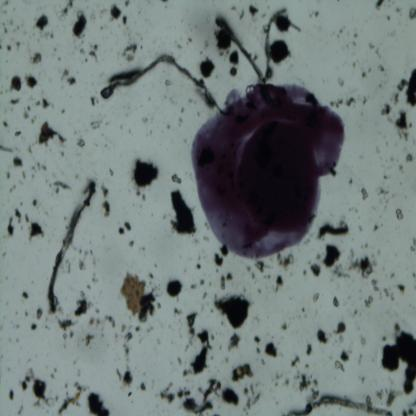Background material: (380, 323, 416, 399), (176, 378, 222, 414), (123, 272, 156, 322), (212, 294, 250, 329), (132, 160, 160, 201), (57, 381, 86, 415), (192, 328, 210, 375), (268, 36, 291, 70), (316, 218, 349, 240), (39, 121, 66, 146), (348, 254, 373, 279), (242, 384, 262, 412), (275, 7, 298, 31), (87, 391, 110, 415), (395, 112, 411, 142), (391, 76, 407, 106), (323, 243, 341, 269), (72, 10, 87, 41), (294, 373, 318, 392), (88, 314, 116, 330), (231, 363, 254, 382), (115, 365, 134, 388), (222, 383, 239, 408), (121, 325, 132, 362), (32, 379, 46, 407), (215, 29, 232, 52), (160, 380, 176, 404), (74, 290, 88, 317), (166, 276, 183, 298), (407, 69, 416, 109), (306, 6, 324, 26), (275, 252, 295, 270), (199, 57, 215, 79), (54, 315, 77, 330), (213, 244, 228, 267), (54, 1, 73, 19), (186, 313, 196, 347), (284, 404, 312, 416), (224, 332, 242, 350), (60, 68, 76, 88), (20, 370, 35, 391), (107, 2, 123, 20), (218, 273, 234, 291), (122, 43, 138, 61), (30, 221, 45, 240), (334, 263, 350, 280), (52, 180, 71, 194), (253, 258, 267, 276), (35, 15, 50, 31), (30, 162, 48, 175), (387, 387, 398, 408), (381, 286, 396, 301), (25, 73, 39, 89), (316, 328, 329, 345), (272, 274, 284, 292), (118, 221, 133, 235), (89, 42, 99, 63), (264, 342, 277, 358), (329, 96, 345, 109), (358, 91, 369, 109), (310, 261, 321, 279), (229, 48, 240, 66), (101, 200, 112, 218), (84, 332, 96, 348), (7, 215, 16, 236), (231, 7, 245, 20), (380, 103, 392, 118), (12, 154, 24, 168), (29, 52, 43, 64), (39, 29, 54, 40), (360, 186, 370, 202), (376, 186, 389, 198), (47, 395, 59, 408), (396, 282, 407, 296), (333, 359, 344, 373), (290, 354, 301, 368), (407, 4, 416, 21), (170, 173, 182, 185), (14, 208, 23, 224), (22, 104, 32, 118), (174, 110, 184, 124), (364, 295, 374, 309), (311, 290, 320, 305), (339, 351, 350, 363), (346, 97, 358, 108), (400, 408, 416, 416), (0, 145, 14, 154), (395, 208, 404, 222), (249, 4, 258, 18), (89, 95, 100, 106), (404, 152, 414, 164), (375, 387, 385, 399), (78, 258, 86, 272), (374, 1, 384, 12), (90, 119, 100, 130), (409, 238, 416, 253), (35, 307, 43, 320), (305, 343, 313, 356), (77, 137, 86, 148), (182, 368, 193, 377), (372, 278, 379, 292), (10, 98, 22, 106), (62, 332, 74, 340), (42, 98, 50, 110), (332, 296, 340, 308), (102, 184, 109, 197), (356, 222, 364, 233), (7, 389, 14, 401), (134, 324, 142, 334), (173, 307, 183, 315), (372, 222, 380, 232), (336, 76, 344, 86), (2, 22, 8, 35), (280, 320, 287, 331), (14, 41, 21, 52), (8, 184, 17, 192), (253, 335, 261, 344), (18, 402, 24, 414), (21, 169, 27, 181), (15, 128, 22, 138), (195, 260, 202, 270), (22, 290, 29, 300), (360, 336, 366, 347), (24, 212, 30, 223), (379, 63, 385, 74), (27, 144, 33, 155), (190, 281, 198, 289), (140, 381, 146, 391), (199, 276, 205, 286), (3, 120, 10, 128), (34, 99, 41, 107), (30, 323, 38, 330), (108, 168, 114, 177), (6, 44, 12, 53), (33, 198, 38, 208), (129, 238, 134, 248), (122, 16, 127, 26), (6, 170, 11, 180), (165, 79, 171, 87), (361, 71, 367, 79), (369, 43, 375, 51), (256, 346, 262, 354), (262, 357, 266, 367), (125, 0, 130, 8), (127, 389, 132, 397)
Cellulose filter fibre: (100, 54, 223, 112), (48, 180, 96, 314), (218, 19, 264, 87), (311, 389, 390, 416), (265, 10, 279, 84)
Diatom: (11, 77, 21, 88), (337, 322, 346, 333), (230, 67, 237, 76)
Fragment: (170, 190, 196, 236)
Pen: (193, 87, 344, 256)
